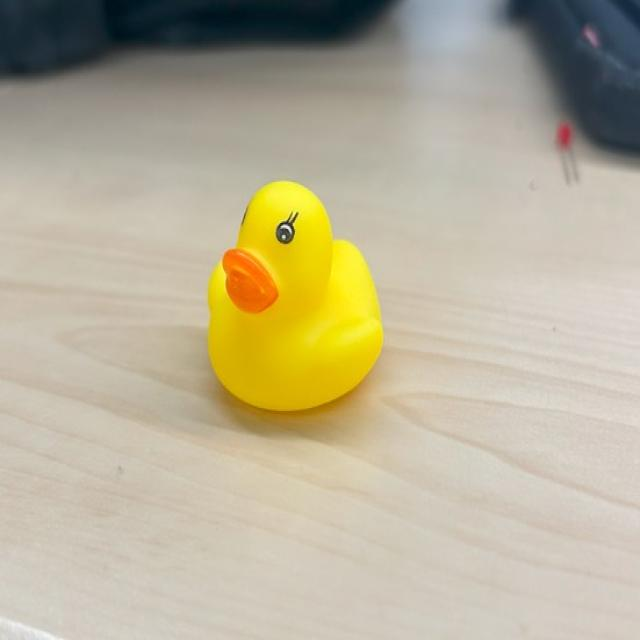duck_regular: (189, 153, 395, 426)
